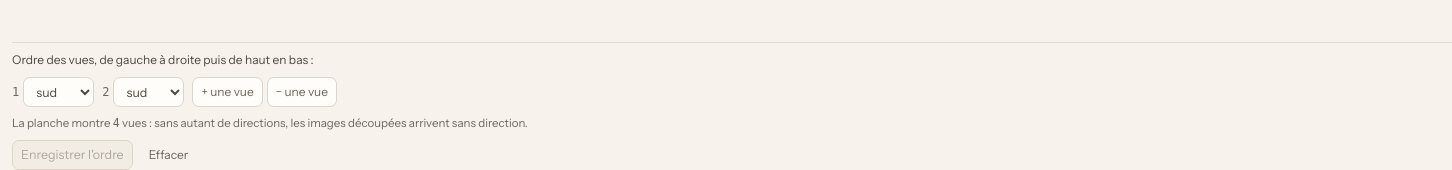
Test case: un compte qui ne tombe pas juste se dit, et le refus du serveur s'affiche
(page scrolled)
Expected: the text "La planche montre" is shown, [12,116,113,130]
Click the button "+ une vue" at {"x": 228, "y": 92}, box [192,77,263,107]
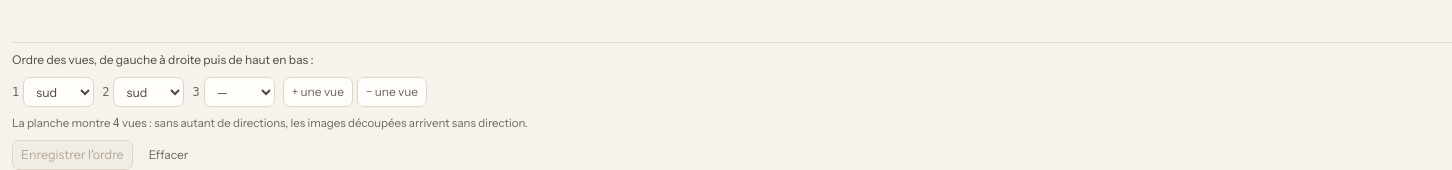
Select "est" in the dropdown named "Vue 3" at {"x": 239, "y": 92}, box [204,77,275,107]
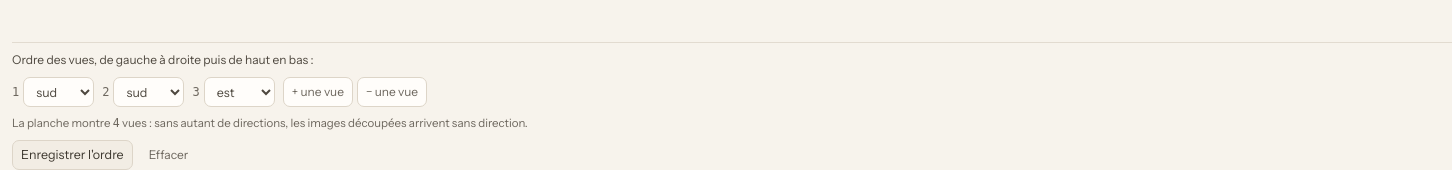
Click the button "Enregistrer l'ordre" at {"x": 72, "y": 155}, box [12,140,133,169]
(page scrolled)
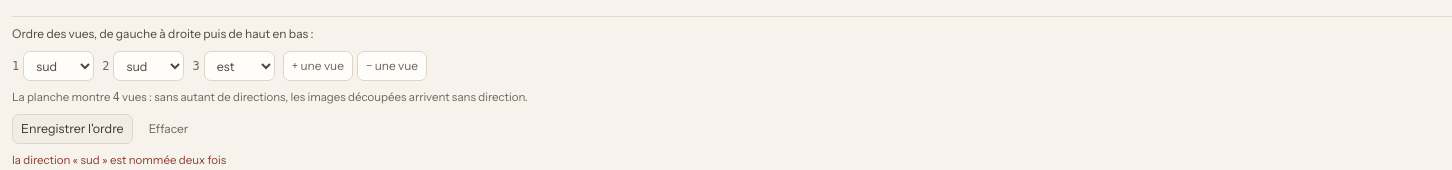
Result: the text "la direction « sud » est nommée deux fois" is shown at [12,153,226,167]
